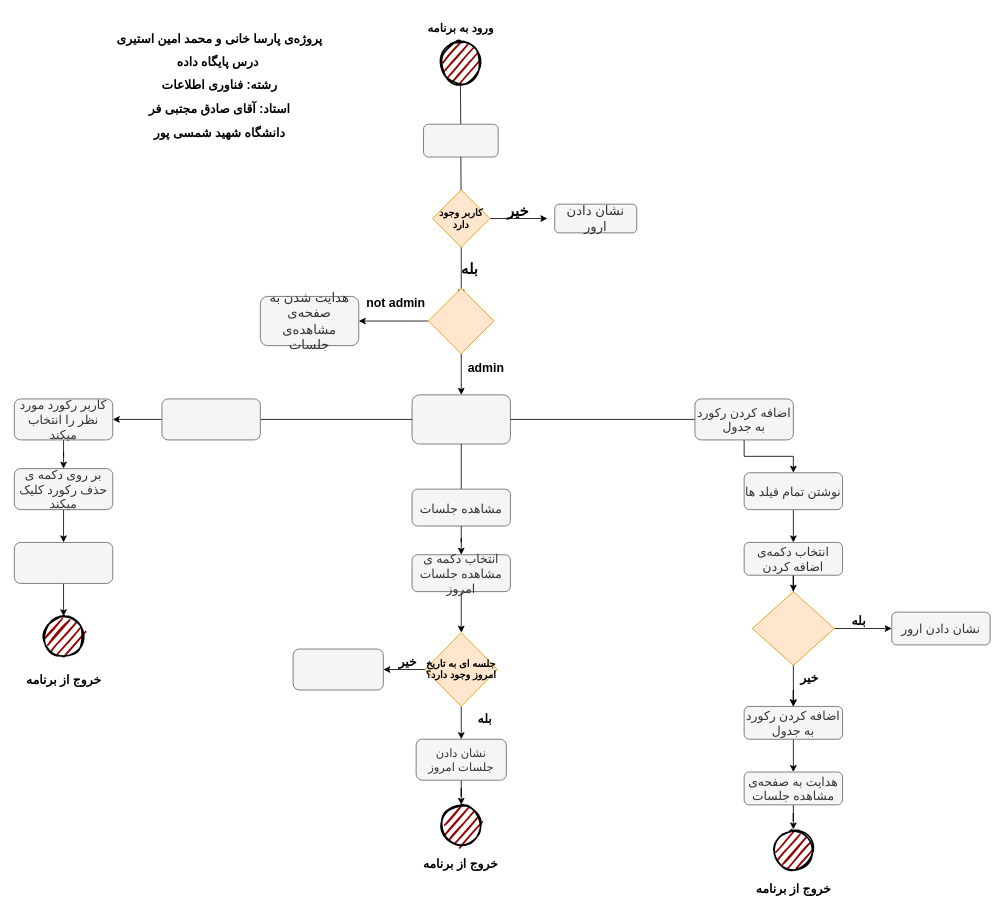
This 1005x918 diagram has some shape labels left out. Each missing label, with the centre of its shape:
"حذف رکورد از جدول" goes at (x=210, y=419).
"دسترسی به صفحات مشاهده‌ی جلسات، حذف و اضافه جلسات" goes at (x=460, y=419).
"رکورد از جدول حذف میشود" goes at (x=63, y=562).
"سطح دسترسی کاربر" goes at (x=461, y=320).
"فیلد خالی وجود دارد؟" goes at (x=793, y=628).
"لاگین کردن کاربر" goes at (x=460, y=140).
"نشان دادن پیام جلسه ای برای امروز وجود ندارد" goes at (x=337, y=669).
